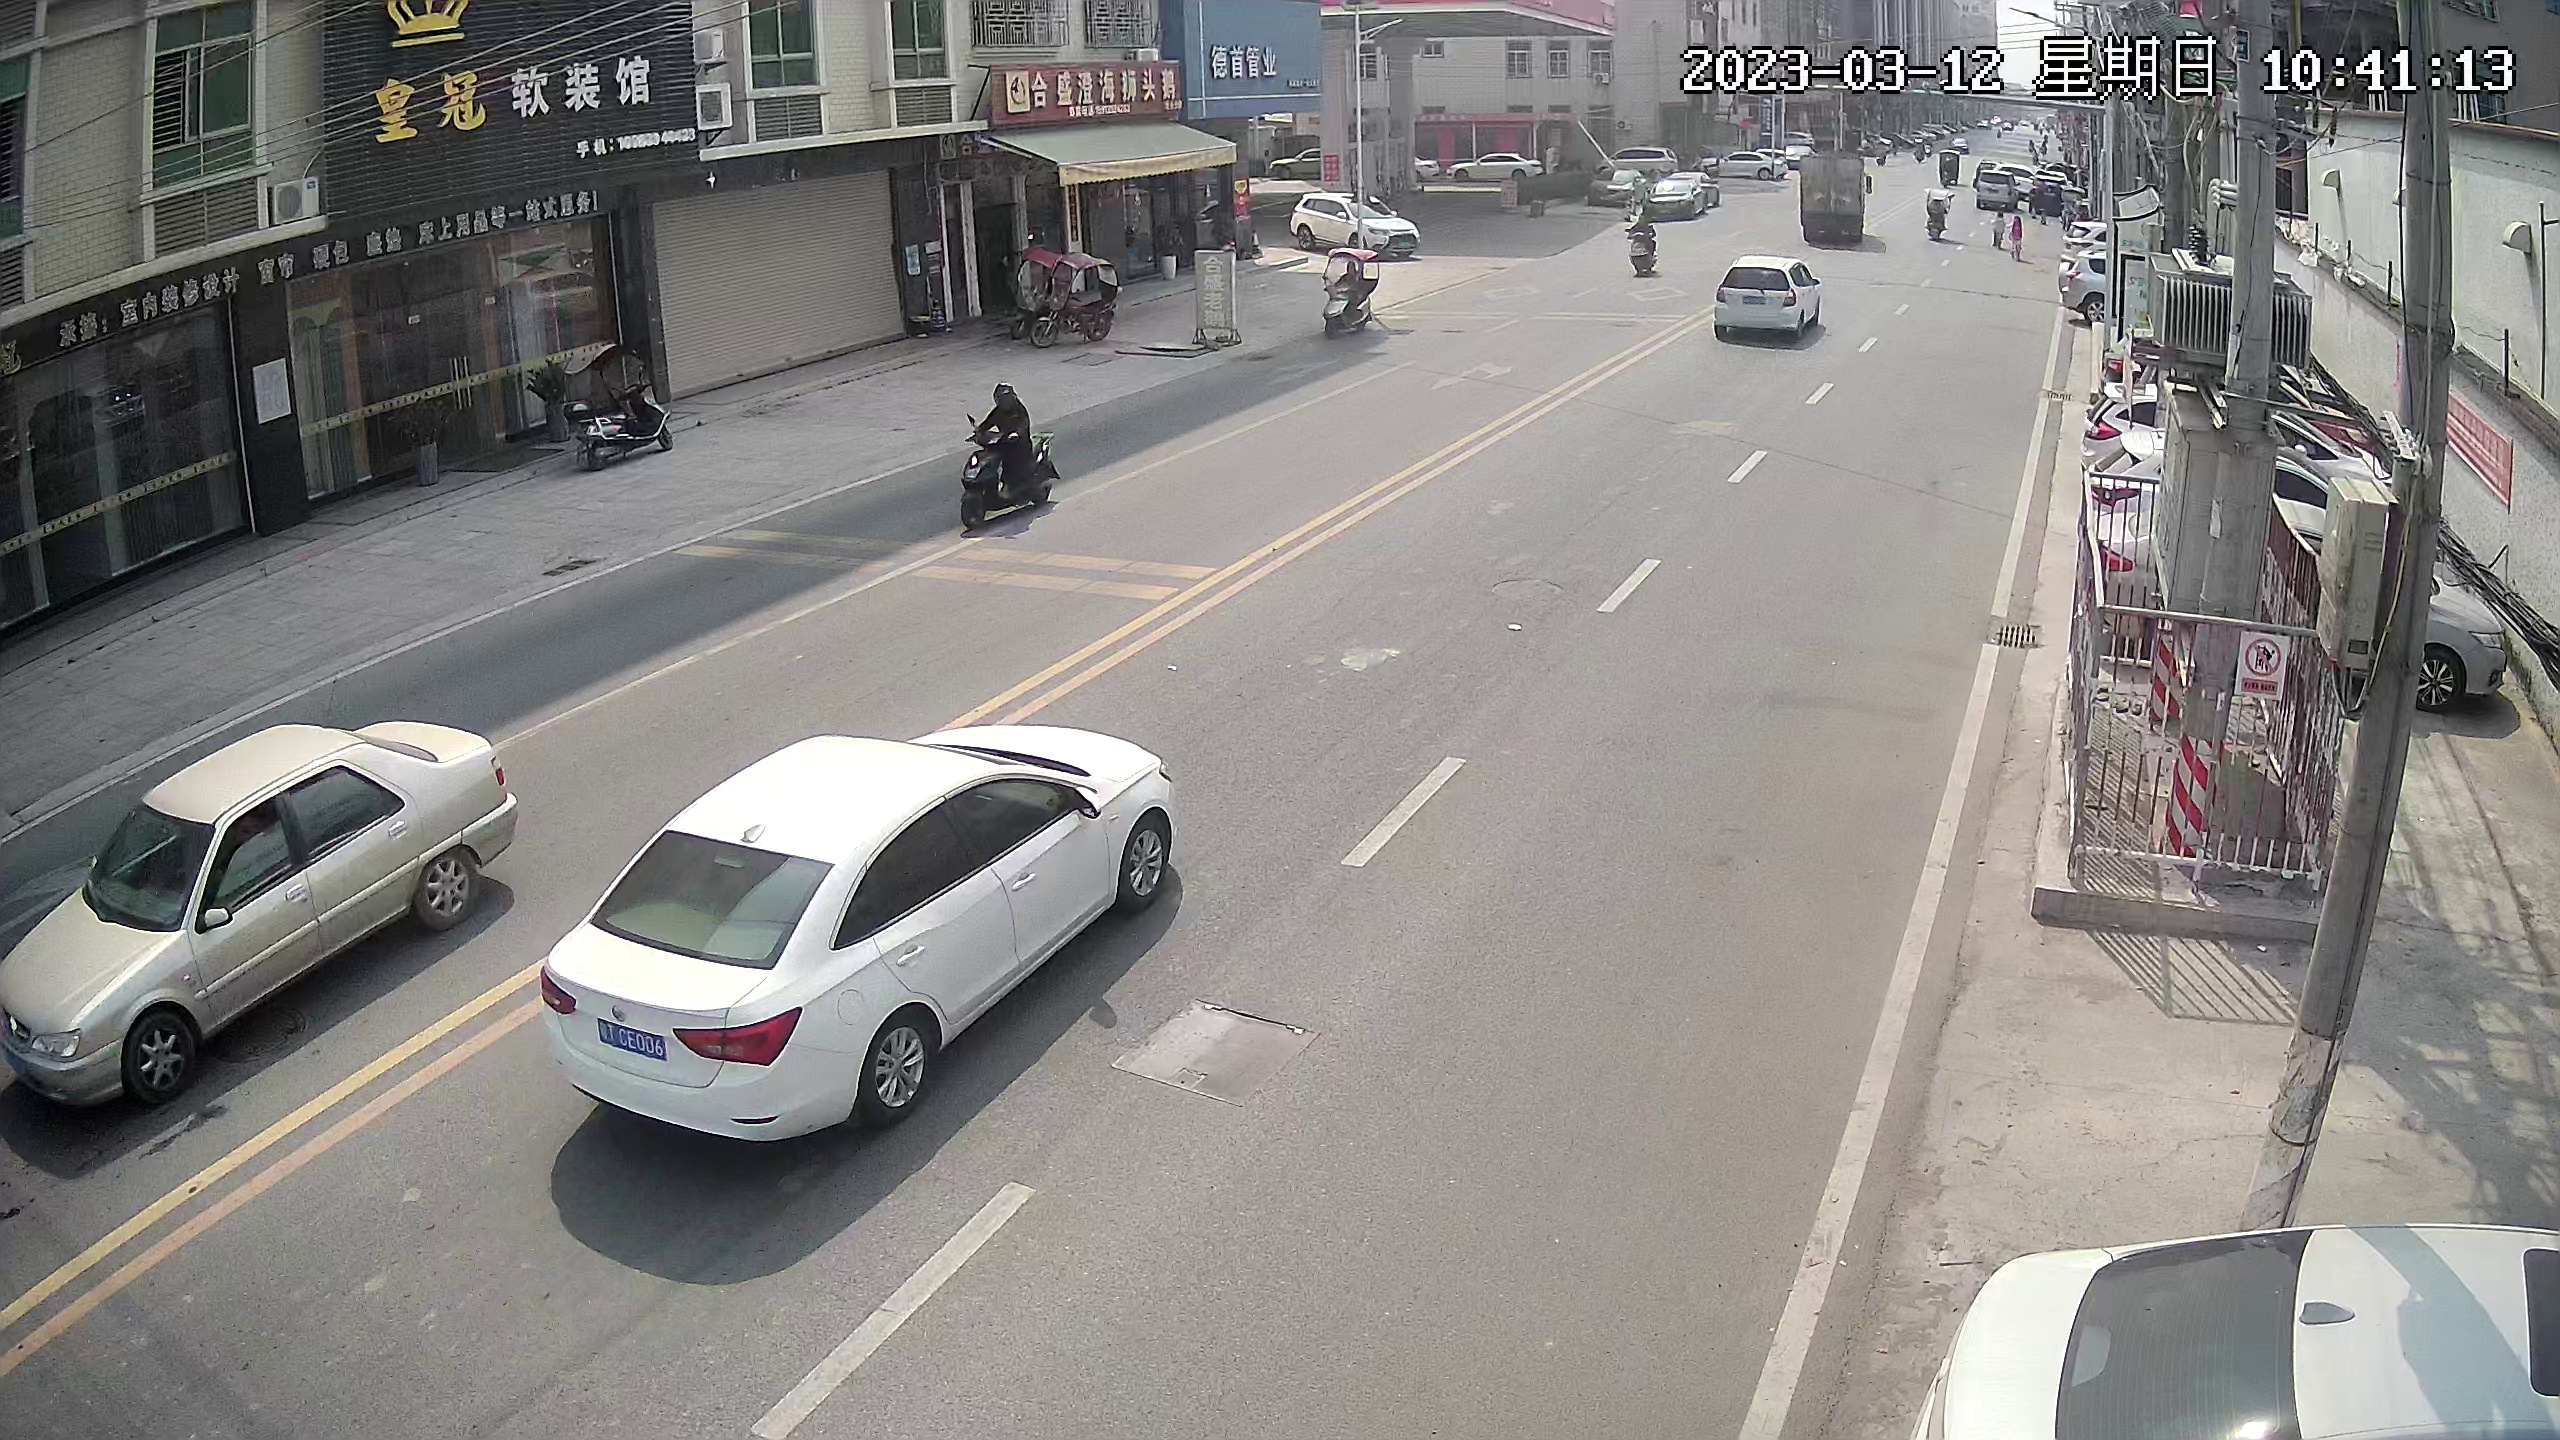motorcycle: (940, 385, 1069, 537), (557, 344, 672, 460), (1043, 260, 1122, 347), (1318, 243, 1384, 344), (1633, 210, 1665, 280), (1924, 180, 1952, 249)
person: (984, 384, 1035, 467), (2008, 218, 2029, 262)
sedan: (588, 732, 1148, 1155), (10, 722, 523, 1127), (1945, 1230, 2554, 1440), (2089, 517, 2500, 694), (2093, 384, 2350, 457), (2105, 447, 2390, 514), (1713, 253, 1822, 350), (1453, 147, 1538, 190), (2070, 229, 2105, 317), (1652, 179, 1705, 222), (1720, 148, 1773, 188), (1604, 144, 1667, 175), (1974, 164, 2014, 212), (1597, 169, 1642, 210), (2035, 167, 2072, 214)
suv: (1300, 189, 1418, 272)
truck: (1799, 152, 1872, 250)
